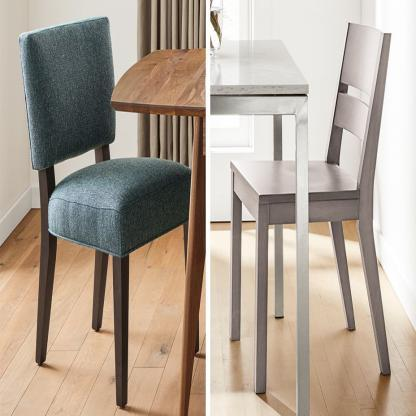chair: (18, 12, 189, 401), (231, 9, 393, 394)
table: (209, 40, 314, 416), (109, 32, 207, 416)
